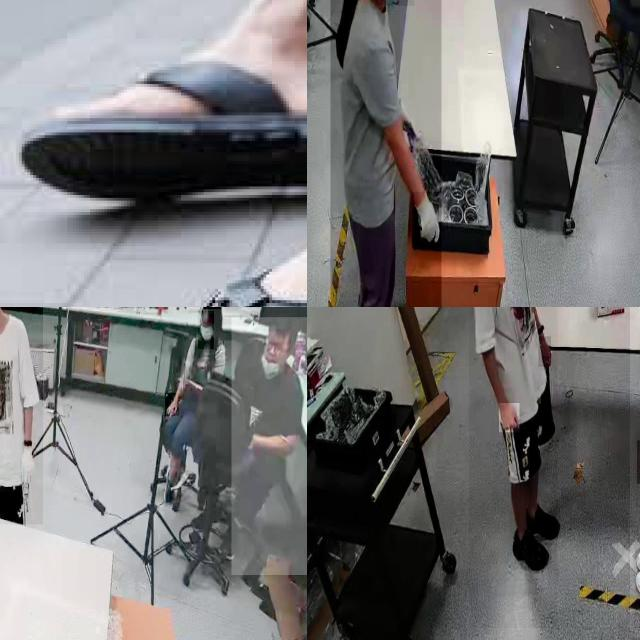Sandals: (18, 236, 307, 307)
face_mask: (198, 311, 214, 349)
face_nomask: (264, 329, 285, 366)
hand_glove: (412, 192, 440, 250), (16, 444, 36, 489)
hand_noglove: (499, 403, 520, 433), (538, 337, 552, 368), (165, 393, 179, 417), (636, 440, 640, 484)
head_nohelmet: (268, 308, 298, 330)
person: (330, 0, 441, 307), (469, 307, 558, 628), (231, 317, 307, 575), (157, 307, 244, 511), (0, 307, 43, 525)
shoes: (520, 495, 564, 545), (512, 525, 552, 578), (632, 540, 640, 574)
